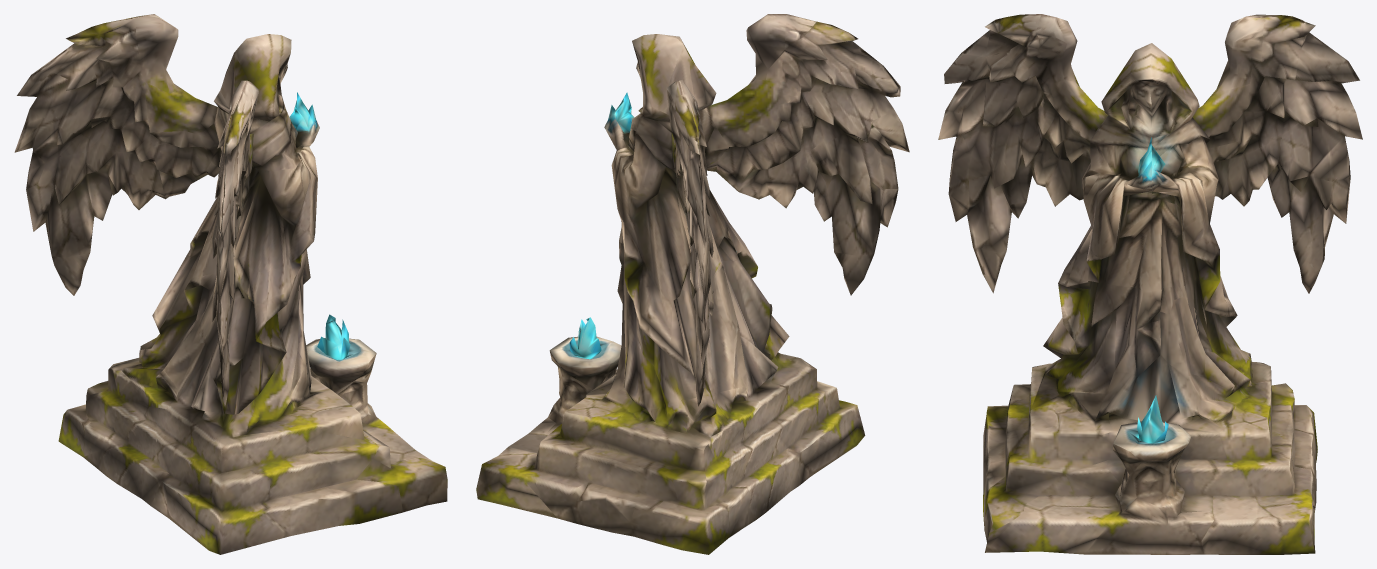
The model's file is estatua_guardia.glb.
The picture shows the model from 3 angles, left to right: view 1: azimuth 30°, elevation 25°; view 2: azimuth 150°, elevation 25°; view 3: azimuth 270°, elevation 25°; orthographic projection. The views are drawn at different scales.
Visible parts, largest first — view 1: tripo_node_a27b3479-f688-486b-a8d6-58f6e8336521; view 2: tripo_node_a27b3479-f688-486b-a8d6-58f6e8336521; view 3: tripo_node_a27b3479-f688-486b-a8d6-58f6e8336521.
Boxes of the visible parts, <box> form: tripo_node_a27b3479-f688-486b-a8d6-58f6e8336521: <box>14,14,447,554</box>; tripo_node_a27b3479-f688-486b-a8d6-58f6e8336521: <box>476,14,909,554</box>; tripo_node_a27b3479-f688-486b-a8d6-58f6e8336521: <box>938,14,1362,554</box>.
Size of the model in its own units: 0.5993 by 0.979 by 0.8337.
1 material, 1 textured.
